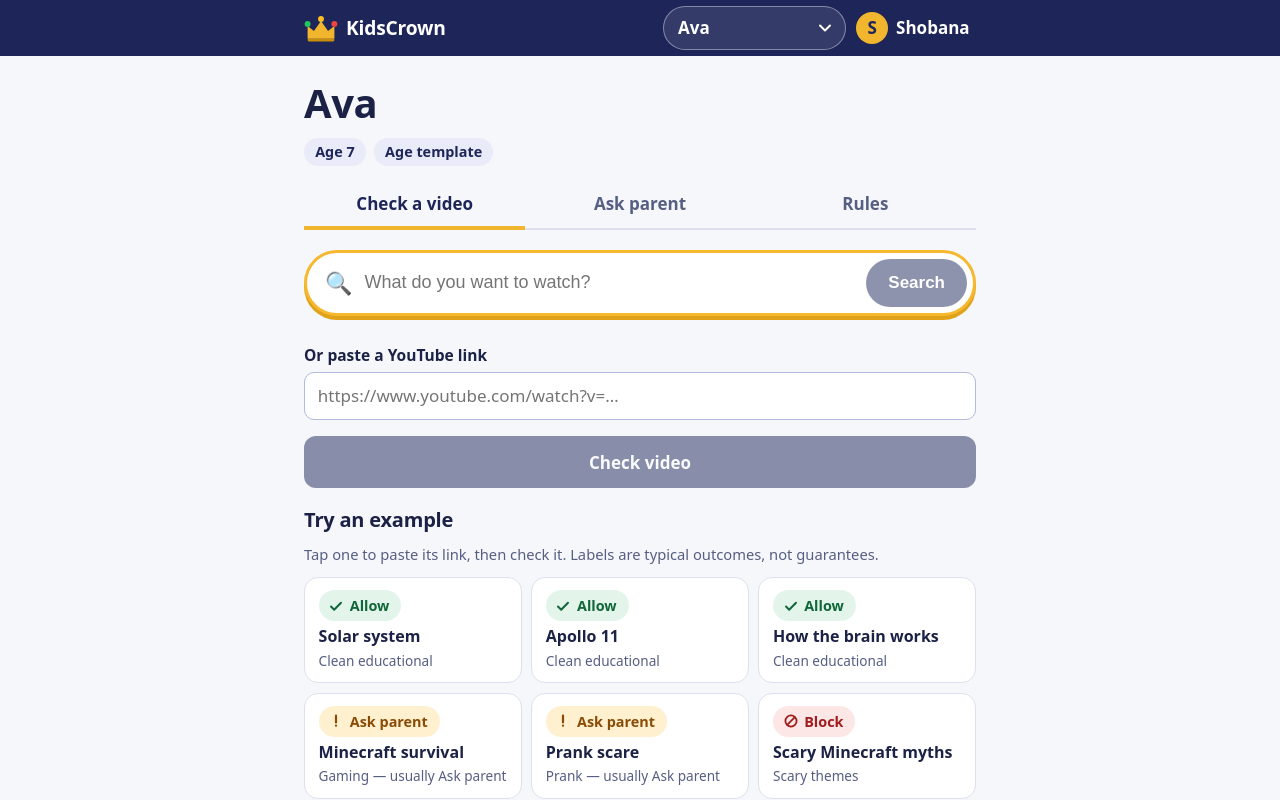
Test case: Check a video › explains a bad link in plain words, and shows other server messages as they are
The width and height of the screenshot is (1280, 800).
Expected: the heading "Ava" is shown, [304,75,377,130]
In the field labelled "Or paste a YouTube link": (640, 396) [304,372,976,420], type "not-a-real-badlink"
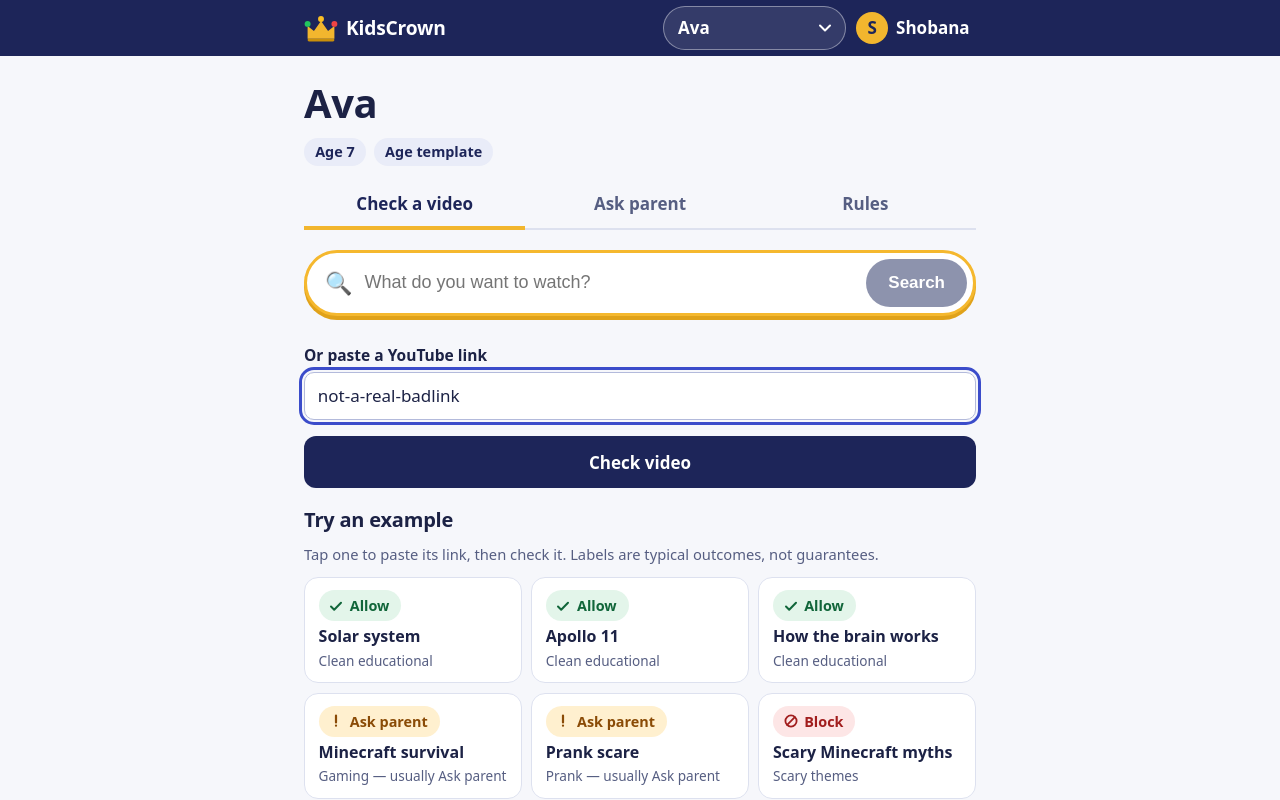
Click the button "Check video": (640, 462) [304,436,976,488]
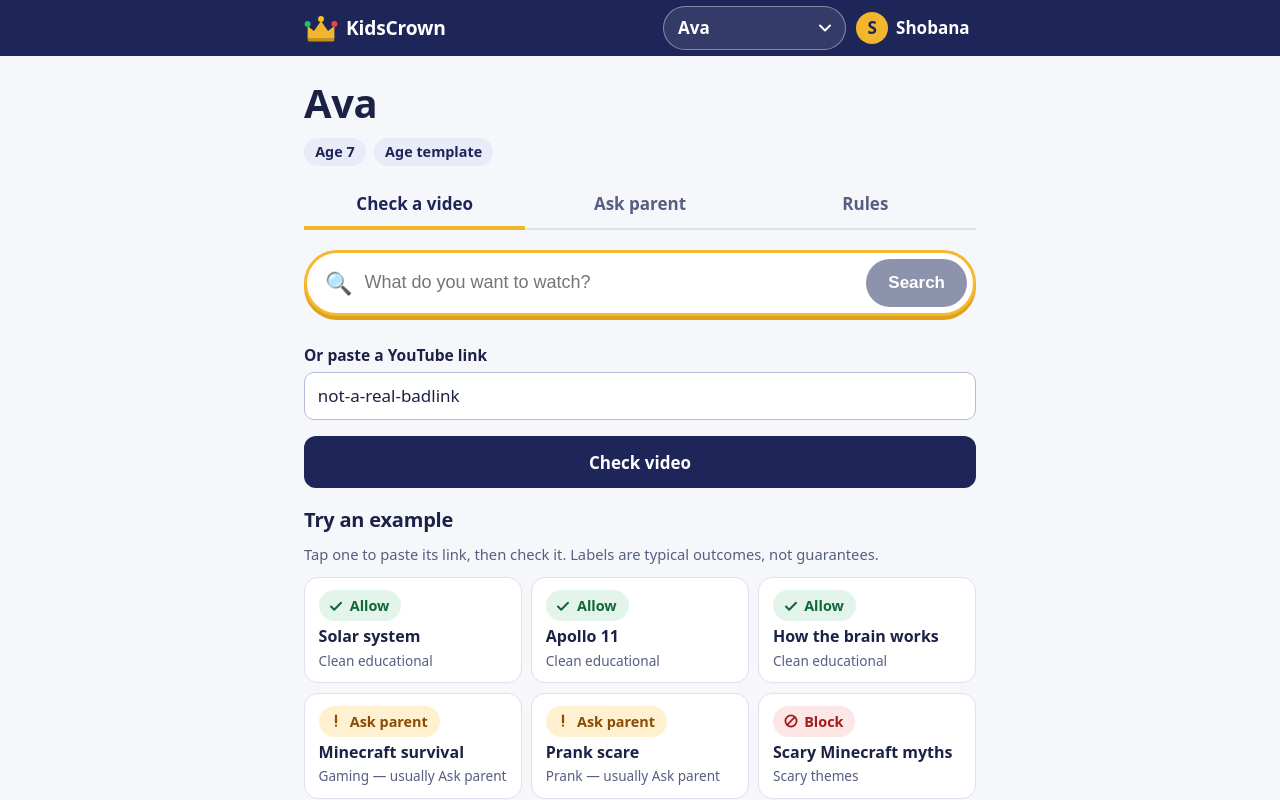
Replace the text in the field labelled "Or paste a YouTube link" with "https://youtu.be/weird400": (640, 396) [304,372,976,420]
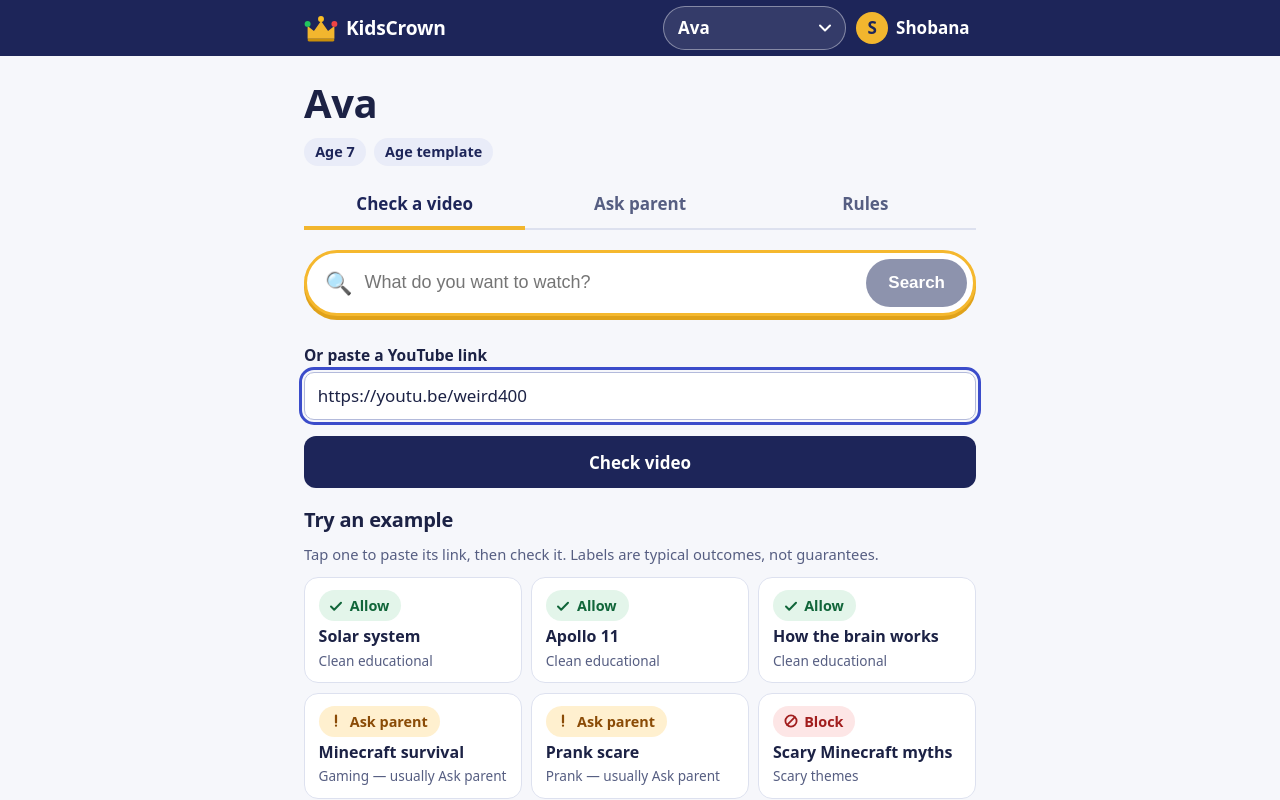
Click the button "Check video": (640, 462) [304,436,976,488]
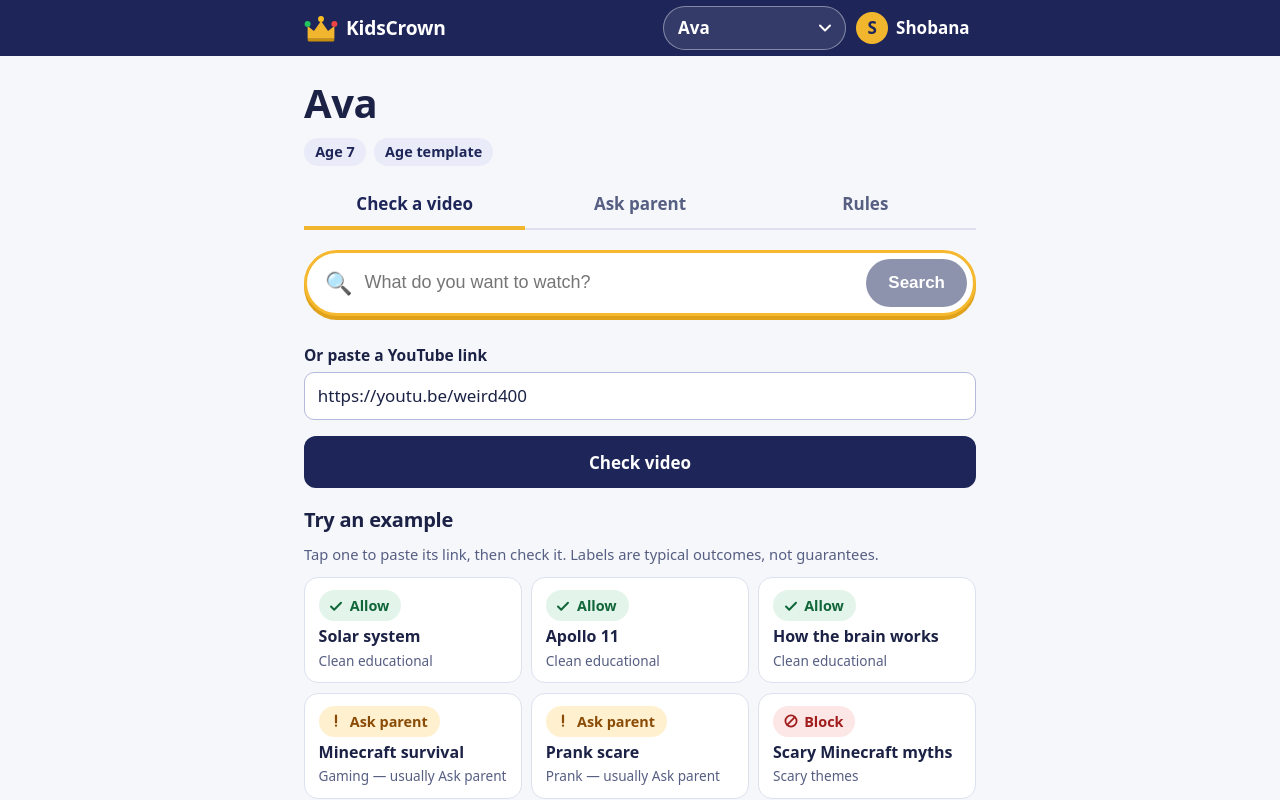
Replace the text in the field labelled "Or paste a YouTube link" with "https://youtu.be/outage00000": (640, 396) [304,372,976,420]
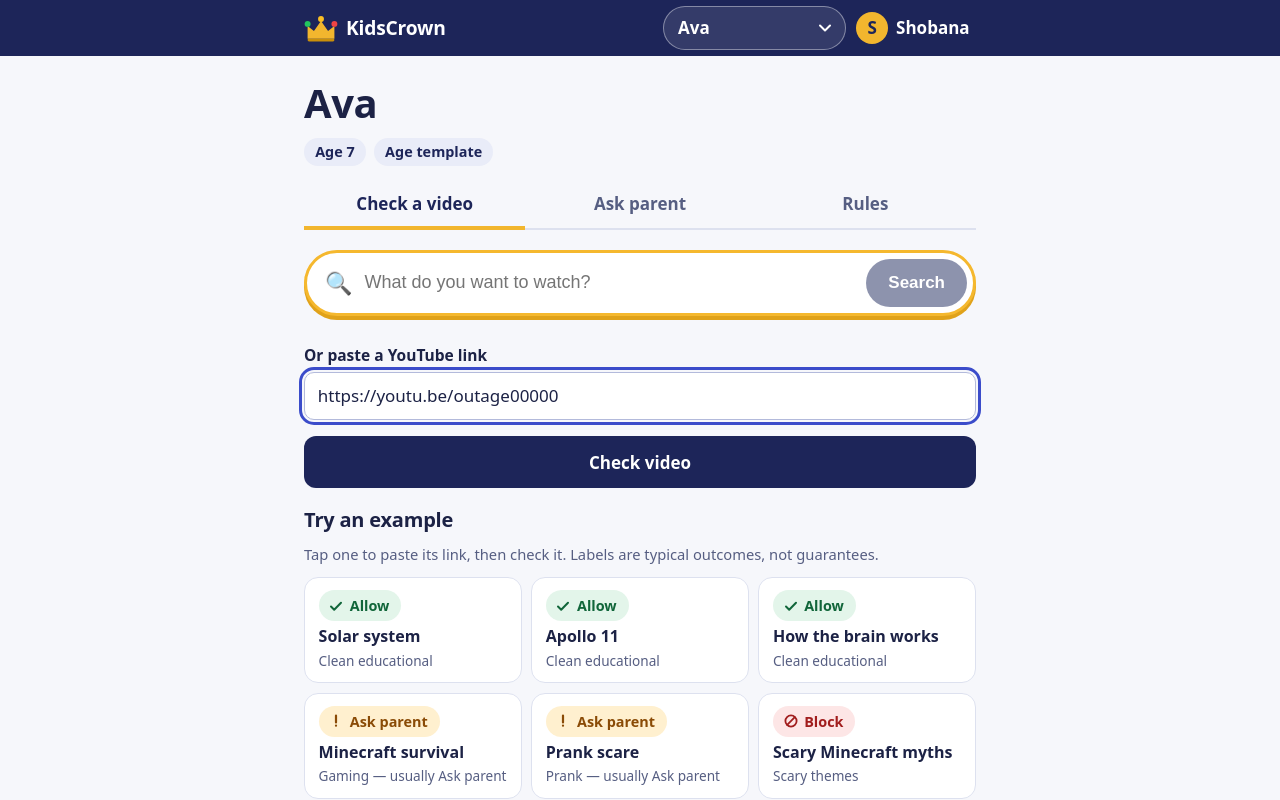
Click the button "Check video": (640, 462) [304,436,976,488]
(page scrolled)
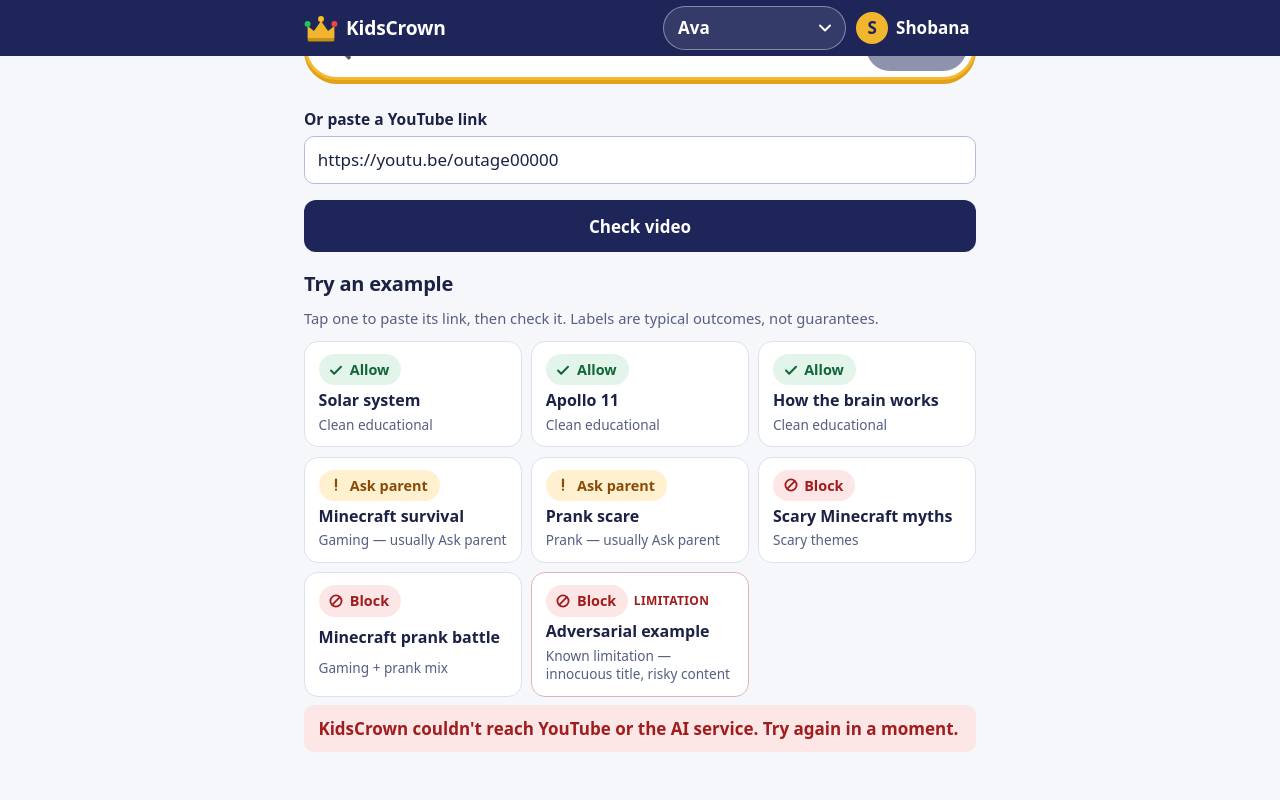
Expected: the message shows "couldn't reach YouTube or the AI service", [318,717,958,740]
